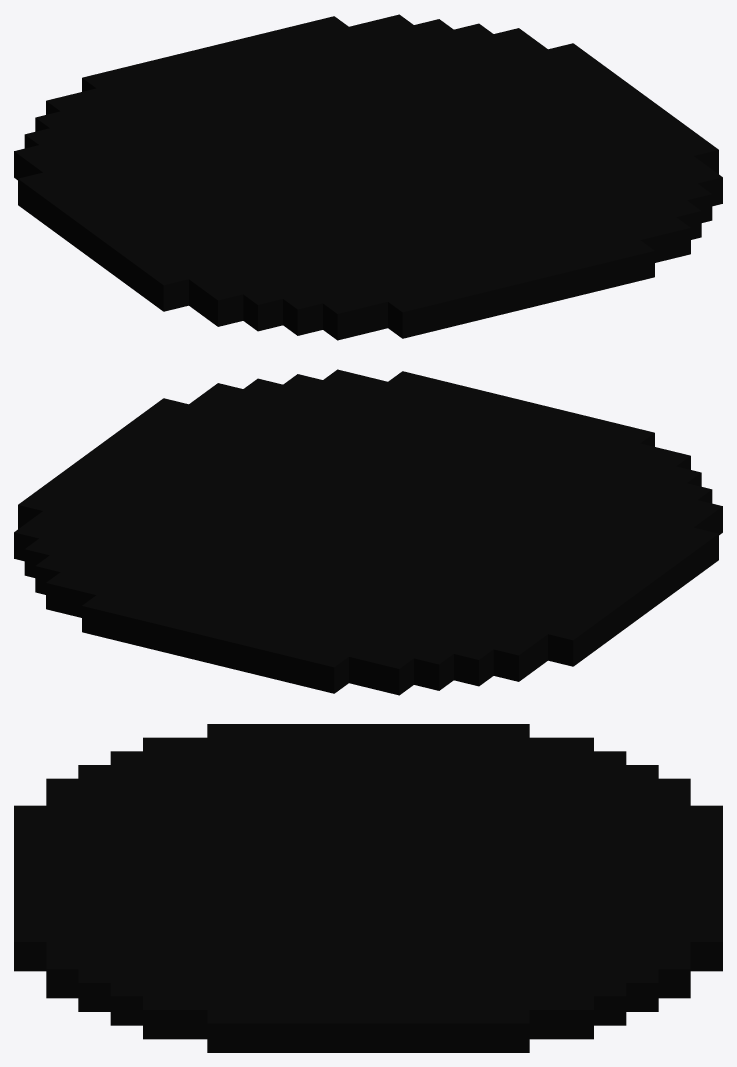
Rendered from HatchHole.obj.
The picture shows the model from 3 angles, top to bottom: view 1: azimuth 30°, elevation 25°; view 2: azimuth 150°, elevation 25°; view 3: azimuth 270°, elevation 25°; orthographic projection. The views are drawn at different scales.
Size of the model in its own units: 2.2 by 0.1 by 2.2.
Materials: 1 (1 with a texture image).
